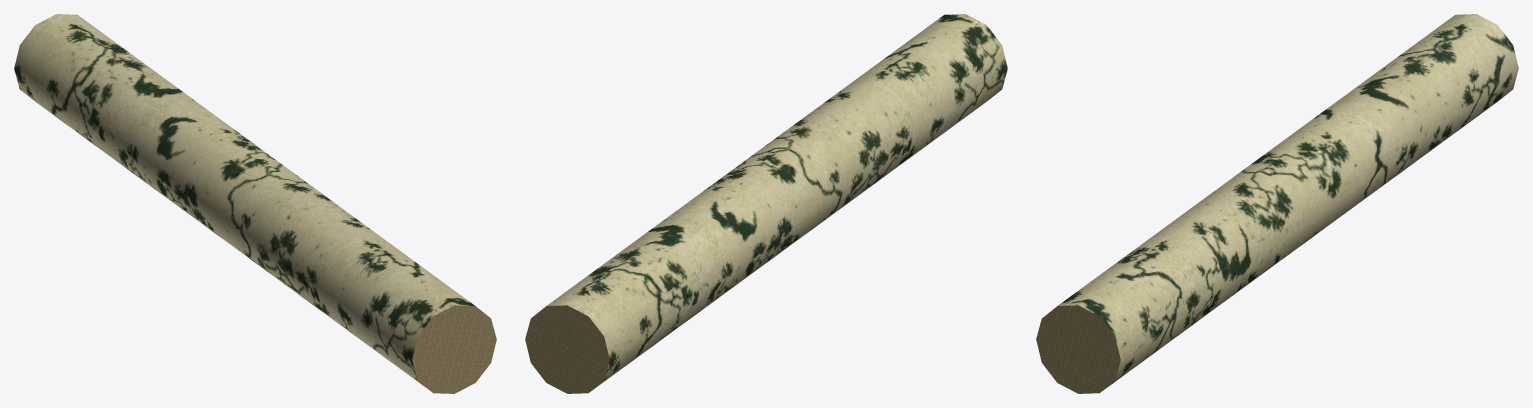
File: wallpaper_roll.DAE
The picture shows the model from 3 angles, left to right: view 1: azimuth 30°, elevation 25°; view 2: azimuth 150°, elevation 25°; view 3: azimuth 330°, elevation 25°; orthographic projection.
Parts seen in each view (by area): view 1: Cylinder003, Object026; view 2: Cylinder003, Object026; view 3: Cylinder003, Object026.
Boxes of the visible parts, x1,y1,x2,y2 form: Cylinder003: (14, 14, 474, 391); Object026: (412, 305, 496, 393); Cylinder003: (547, 14, 1007, 391); Object026: (525, 305, 609, 393); Cylinder003: (1058, 14, 1518, 391); Object026: (1036, 305, 1120, 393).
Bounding box in the file's own units: 0.2454 × 0.2454 × 2.
